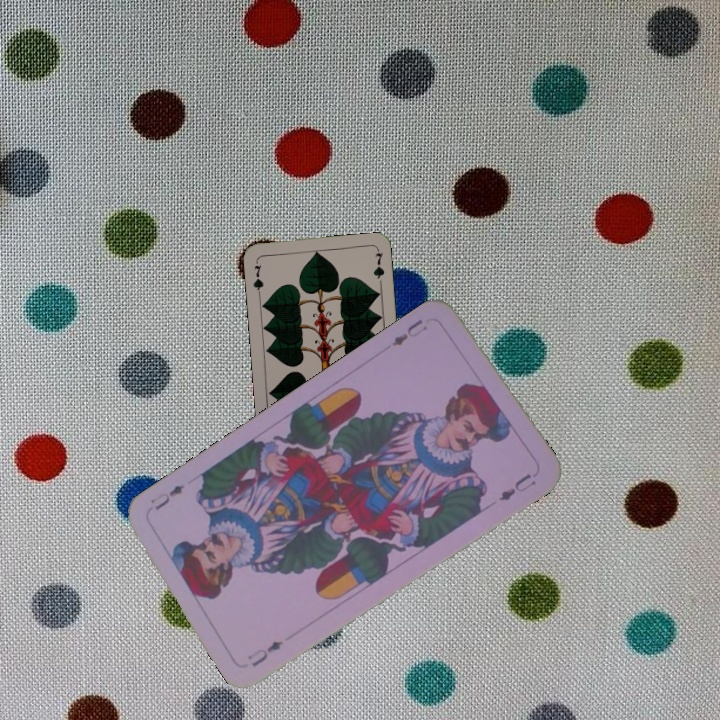EU: (387, 315, 426, 349), (247, 636, 285, 670)
G7: (249, 256, 266, 297)
